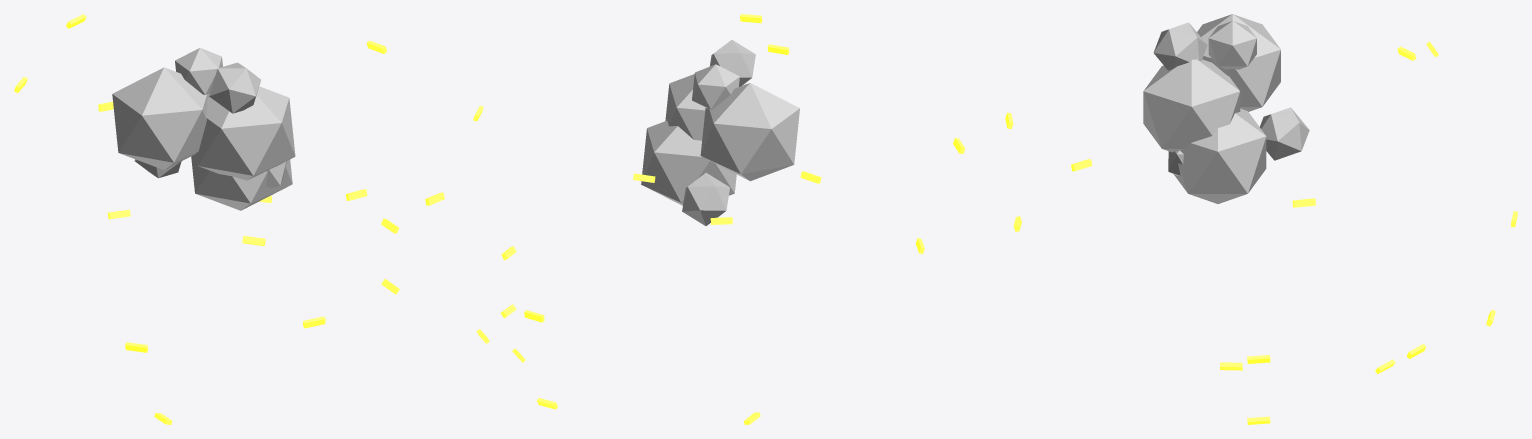
Rendered from Explosion_PE.fbx.
3 renders of one model, left to right at view 1: azimuth 30°, elevation 25°; view 2: azimuth 150°, elevation 25°; view 3: azimuth 270°, elevation 25°, orthographic. The views are drawn at different scales.
Parts seen in each view (by area): view 1: Icosphere.007, Icosphere.005, Icosphere, Icosphere.011, Icosphere.006; view 2: Icosphere.007, Icosphere, Icosphere.005, Icosphere.010, Icosphere.006, Icosphere.011; view 3: Icosphere.005, Icosphere, Icosphere.007, Icosphere.006, Icosphere.010, Icosphere.011.
Boxes of the visible parts, x1,y1,x2,y2 form: Icosphere.007: (112, 67, 209, 169); Icosphere.005: (196, 86, 295, 180); Icosphere: (191, 154, 292, 210); Icosphere.011: (209, 62, 260, 113); Icosphere.006: (175, 48, 222, 94); Icosphere.007: (700, 83, 799, 181); Icosphere: (641, 120, 736, 205); Icosphere.005: (665, 74, 746, 140); Icosphere.010: (682, 172, 729, 225); Icosphere.006: (692, 64, 739, 109); Icosphere.011: (709, 40, 755, 86); Icosphere.005: (1143, 59, 1240, 152); Icosphere: (1174, 108, 1266, 203); Icosphere.007: (1197, 14, 1280, 111); Icosphere.006: (1208, 21, 1256, 69); Icosphere.010: (1260, 107, 1309, 160); Icosphere.011: (1153, 22, 1207, 70).
Bounding box in the file's own units: 734 × 702 × 979.
